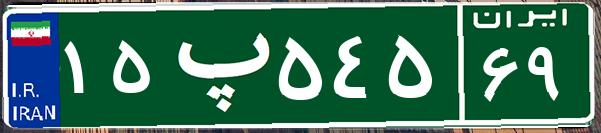1: (57, 26, 110, 107)
4: (330, 28, 385, 110)
5: (385, 28, 445, 110), (273, 28, 330, 110), (110, 28, 158, 105)
6: (475, 38, 525, 113)
9: (525, 38, 570, 115)
پ: (158, 15, 273, 115)
